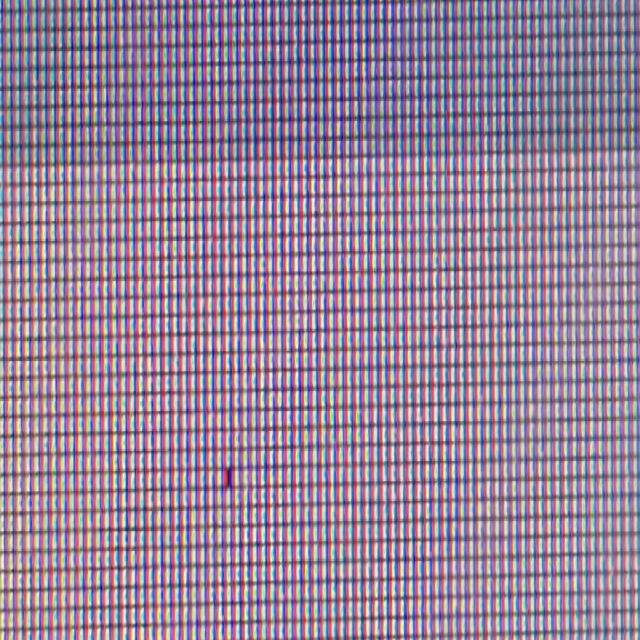Dead pixel: (224, 466, 232, 488)
